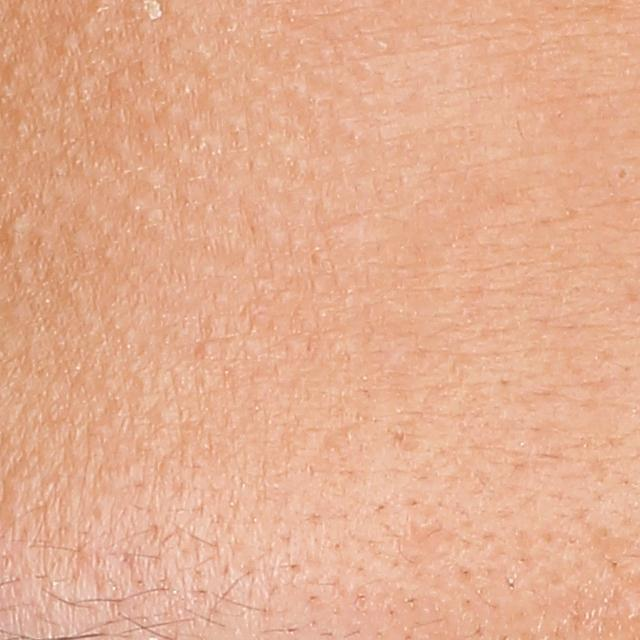comedo: (193, 338, 222, 361), (614, 165, 635, 185)
